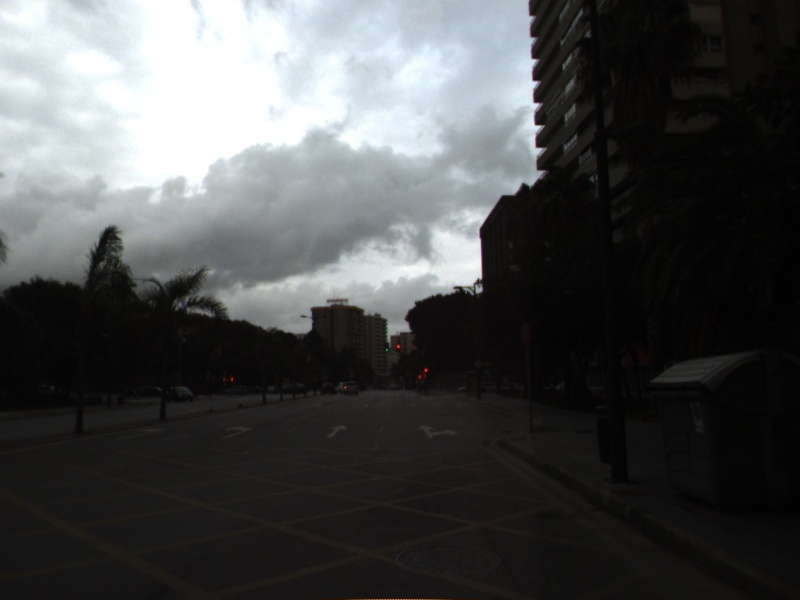LEFT: (113, 425, 168, 442), (219, 423, 256, 441)
STRAIGHT: (323, 421, 351, 440)
STRAIGHT_RIGHT: (414, 422, 461, 440)
